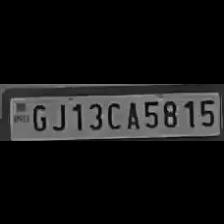1: (68, 99, 84, 131), (180, 96, 196, 128)
3: (86, 99, 104, 131)
5: (140, 97, 158, 129), (197, 96, 215, 128)
8: (160, 96, 178, 128)
A: (124, 98, 140, 130)
C: (104, 98, 122, 130)
G: (28, 99, 48, 130)
J: (49, 98, 67, 132)
